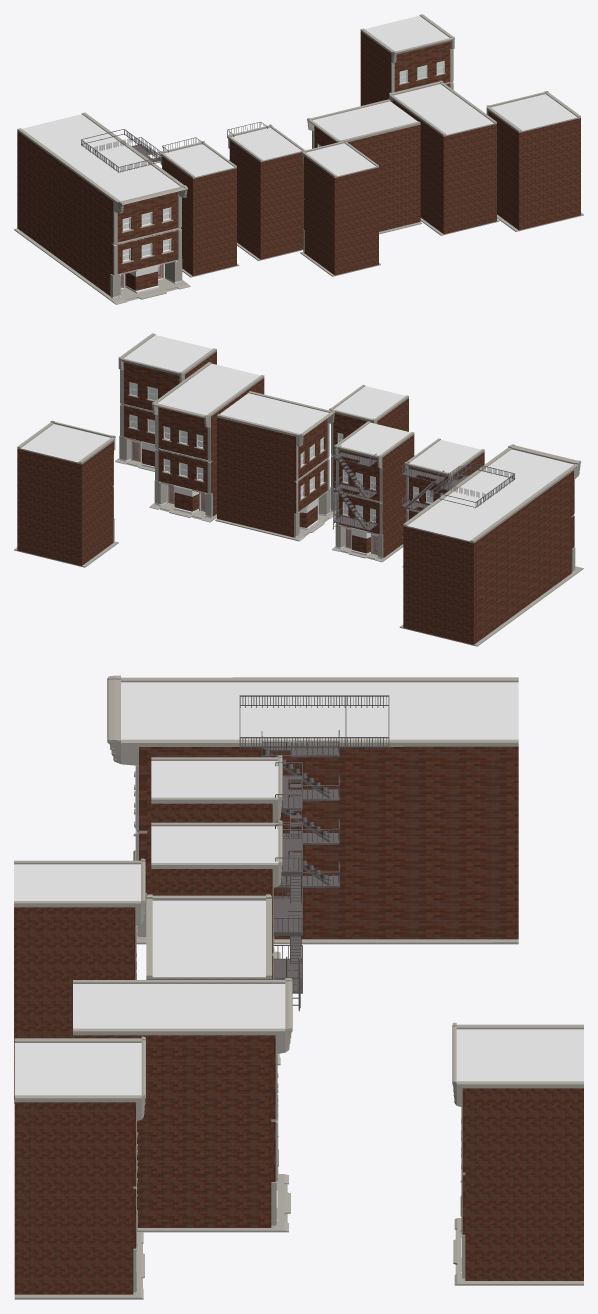
File: City_Parkour.fbx
3 views of the same model, one above another, from view 1: azimuth 30°, elevation 25°; view 2: azimuth 150°, elevation 25°; view 3: azimuth 270°, elevation 25° (orthographic). The views are drawn at different scales.
Visible parts, largest first — view 1: Cube_071, Cube_068, Cube_070__2_, Cube_062, Cube_057, Cube_061, Cube_057__1_, Cube_070__1_, Cube_027; view 2: Cube_071, Cube_061, Cube_070__1_, Cube_068, Cube_057, Cube_070__2_, Cube_062, Cube_057__1_, Cube_064, Cube_026, Cube_027; view 3: Cube_071, Cube_068, Cube_070__2_, Cube_070__1_, Cube_062, Cube_061, Cube_057, Cube_057__1_, Cube_055, Cube_064, Cube_026, Cube_027.
Boxes of the visible parts, x1,y1,x2,y2 form: Cube_071: [14, 112, 190, 304]; Cube_068: [389, 80, 499, 235]; Cube_070__2_: [486, 91, 583, 231]; Cube_062: [300, 140, 380, 276]; Cube_057: [228, 124, 304, 260]; Cube_061: [307, 99, 421, 234]; Cube_057__1_: [160, 141, 239, 277]; Cube_070__1_: [360, 14, 454, 105]; Cube_027: [81, 129, 162, 172]; Cube_071: [399, 444, 583, 646]; Cube_061: [215, 391, 334, 541]; Cube_070__1_: [14, 420, 118, 567]; Cube_068: [149, 362, 264, 522]; Cube_057: [332, 421, 414, 562]; Cube_070__2_: [115, 333, 216, 471]; Cube_062: [329, 384, 408, 514]; Cube_057__1_: [402, 438, 484, 567]; Cube_064: [332, 445, 377, 530]; Cube_026: [401, 461, 444, 538]; Cube_027: [430, 462, 515, 507]; Cube_071: [107, 675, 518, 944]; Cube_068: [73, 978, 292, 1232]; Cube_070__2_: [14, 1036, 145, 1299]; Cube_070__1_: [452, 1022, 583, 1285]; Cube_062: [14, 858, 145, 1103]; Cube_061: [146, 894, 278, 1173]; Cube_057: [151, 820, 282, 1065]; Cube_057__1_: [151, 755, 282, 958]; Cube_055: [261, 730, 339, 887]; Cube_064: [273, 824, 302, 1011]; Cube_026: [273, 761, 302, 928]; Cube_027: [239, 695, 389, 747].
Size of the model in its own units: 51.13 by 11.73 by 28.84.
7 materials, 1 textured.
